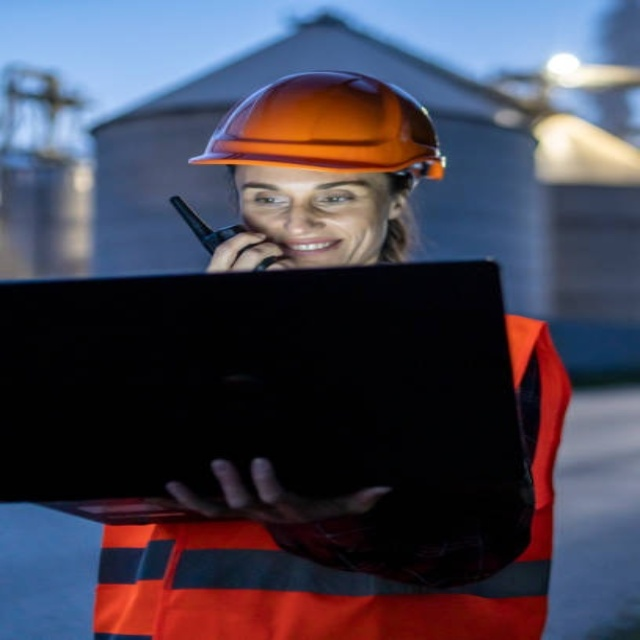Sin_gafas: (240, 181, 365, 212)
Sin_guantes: (163, 456, 389, 527), (204, 227, 285, 272)
Sin_mascara: (275, 234, 348, 261)
